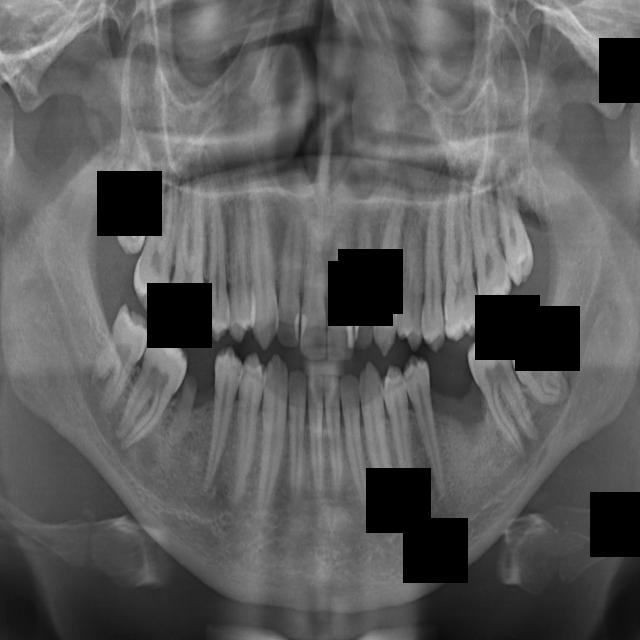3M ESPE Implant: (111, 122, 164, 259)
AGS Medikal Implant: (459, 319, 545, 470)
Amalgam filling: (128, 141, 187, 316)
Anthogyr Implant: (401, 353, 454, 506)
Bicon Implant: (379, 359, 422, 514)
BioHorizons Implant: (352, 358, 405, 534)
BioLife Implant: (337, 370, 372, 518)
Biomet 3i Implant: (324, 373, 344, 493)
Blue Sky Bio Implant: (307, 374, 324, 501)
Camlog Implant: (284, 366, 308, 516)
Caries: (353, 213, 374, 353)
Composite filling: (255, 351, 290, 530)
Cowellmedi Implant: (225, 348, 267, 509)
Crown: (201, 343, 244, 497)
DENTSPLY Implant: (164, 175, 216, 336)
Dentis Implant: (105, 322, 203, 468)
Dentium Implant: (72, 298, 162, 417)
Euroteknika Implant: (204, 183, 229, 344)
Filling: (226, 181, 251, 347)
Frontier Implant: (244, 160, 280, 352)
Hiossen Implant: (367, 182, 410, 362)
Implant: (298, 217, 333, 365)
Implant Direct: (273, 202, 308, 352)
Keystone Dental Implant: (325, 216, 360, 366)
MIS Implant: (397, 204, 426, 355)
Mandible: (419, 191, 445, 355)
Maxilla: (434, 174, 483, 345)
Megagen Implant: (456, 170, 516, 318)
Neodent Implant: (488, 172, 542, 292)
Neoss Implant: (496, 316, 578, 417)
